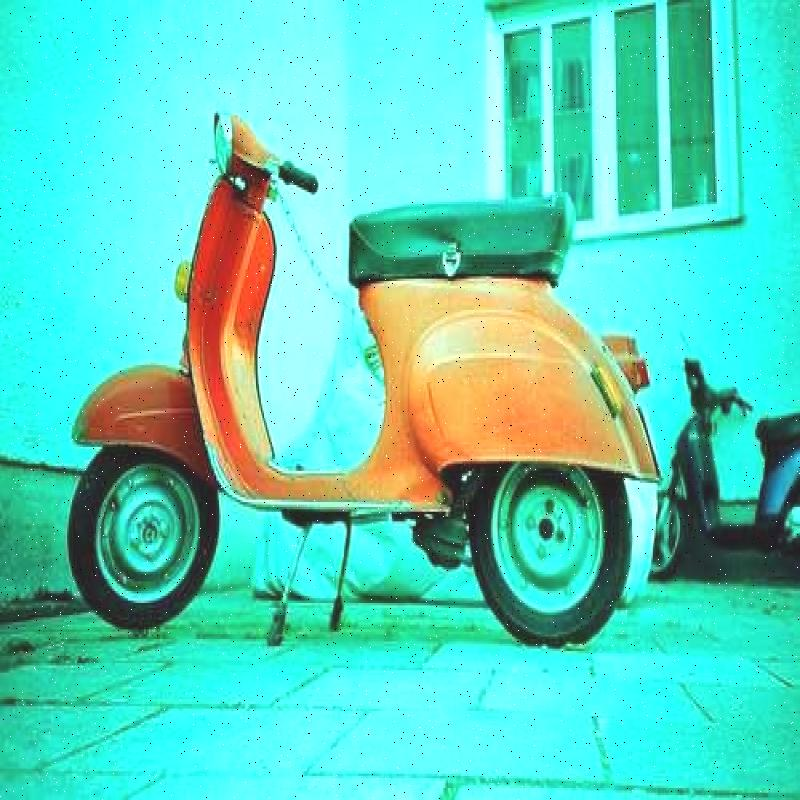bike: (56, 85, 670, 690), (654, 344, 800, 582)
